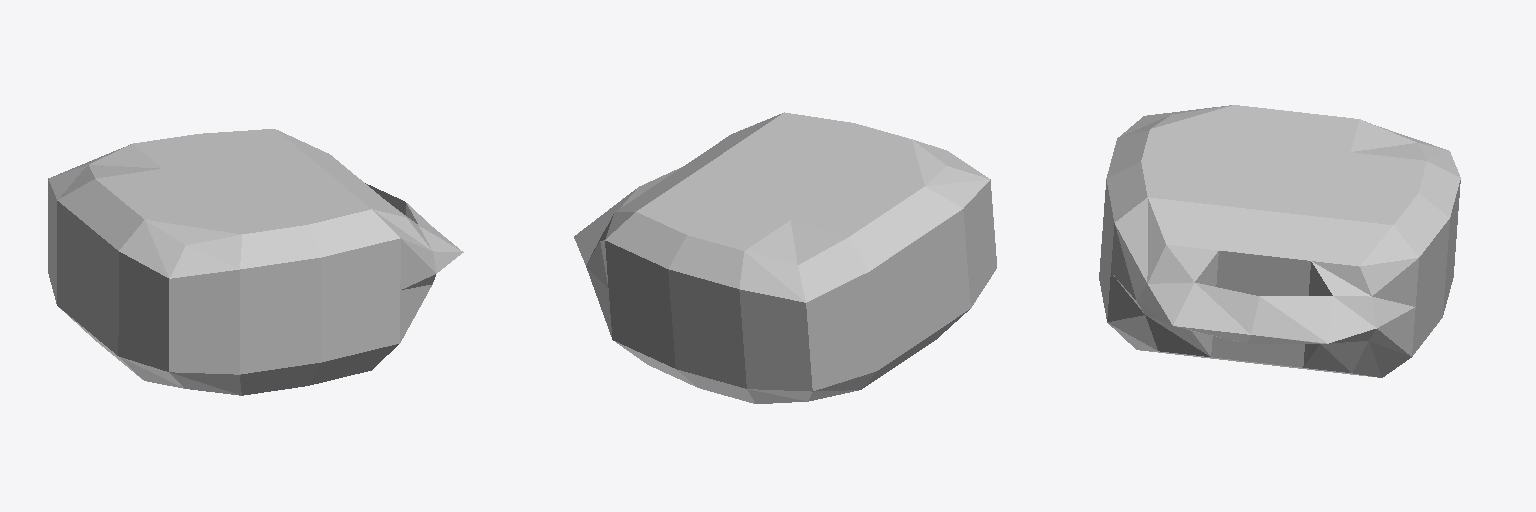
File: bag_for_etri2016.obj
3 views of the same model, side by side, from view 1: azimuth 30°, elevation 25°; view 2: azimuth 150°, elevation 25°; view 3: azimuth 270°, elevation 25° (orthographic).
Bounding box in the file's own units: 0.3596 × 0.1783 × 0.331.